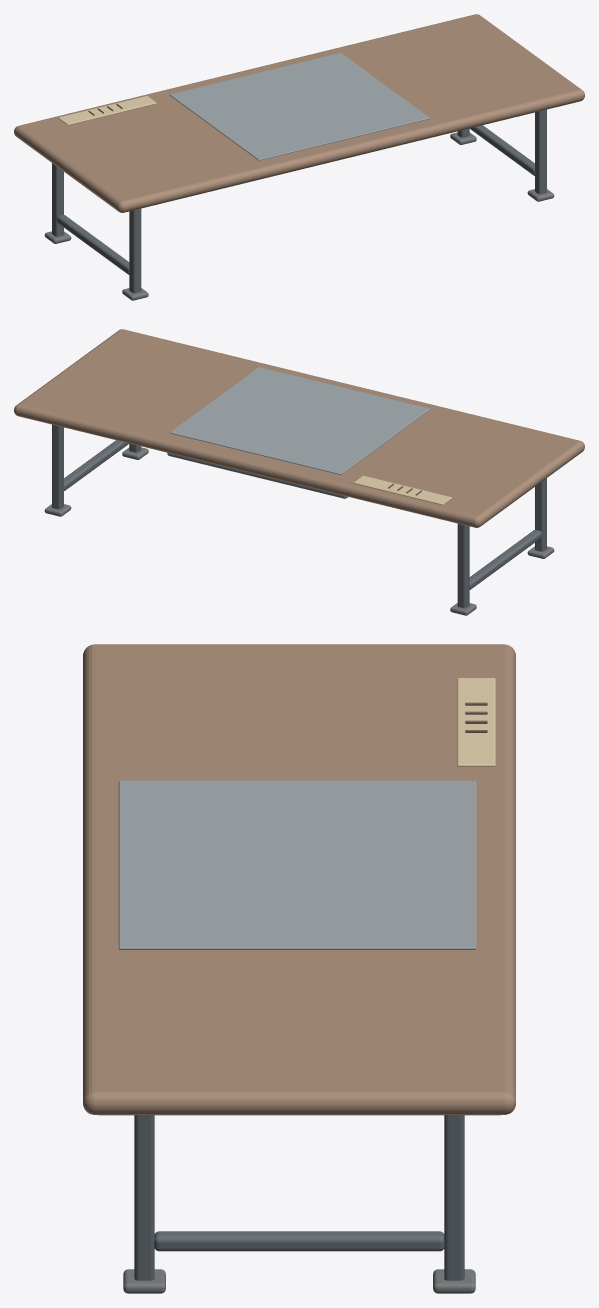
File: desk.glb
3 renders of one model, top to bottom at view 1: azimuth 30°, elevation 25°; view 2: azimuth 150°, elevation 25°; view 3: azimuth 270°, elevation 25°, orthographic. The views are drawn at different scales.
Visible parts, largest first — view 1: walnut_desktop_0, cloth_6, graphite_2, graphite_4, brass_7, rubber_3; view 2: walnut_desktop_0, cloth_6, graphite_2, graphite_4, brass_7, rubber_3, graphite2_5; view 3: walnut_desktop_0, cloth_6, graphite_2, graphite_4, brass_7, rubber_3.
Part boxes in pixels (<box>): walnut_desktop_0: <box>14,14,584,212</box>; cloth_6: <box>169,52,430,160</box>; graphite_2: <box>52,109,546,293</box>; graphite_4: <box>57,125,534,274</box>; brass_7: <box>58,96,156,125</box>; rubber_3: <box>44,132,554,300</box>; walnut_desktop_0: <box>14,329,584,527</box>; cloth_6: <box>169,367,430,474</box>; graphite_2: <box>52,424,546,608</box>; graphite_4: <box>64,440,541,589</box>; brass_7: <box>353,475,451,505</box>; rubber_3: <box>44,447,554,615</box>; graphite2_5: <box>167,452,347,498</box>; walnut_desktop_0: <box>83,644,515,1114</box>; cloth_6: <box>118,780,476,949</box>; graphite_2: <box>134,1115,464,1280</box>; graphite_4: <box>154,1231,444,1251</box>; brass_7: <box>457,678,495,767</box>; rubber_3: <box>123,1269,475,1293</box>.
Bounding box in the file's own units: 5.85 × 1.35 × 2.35.
